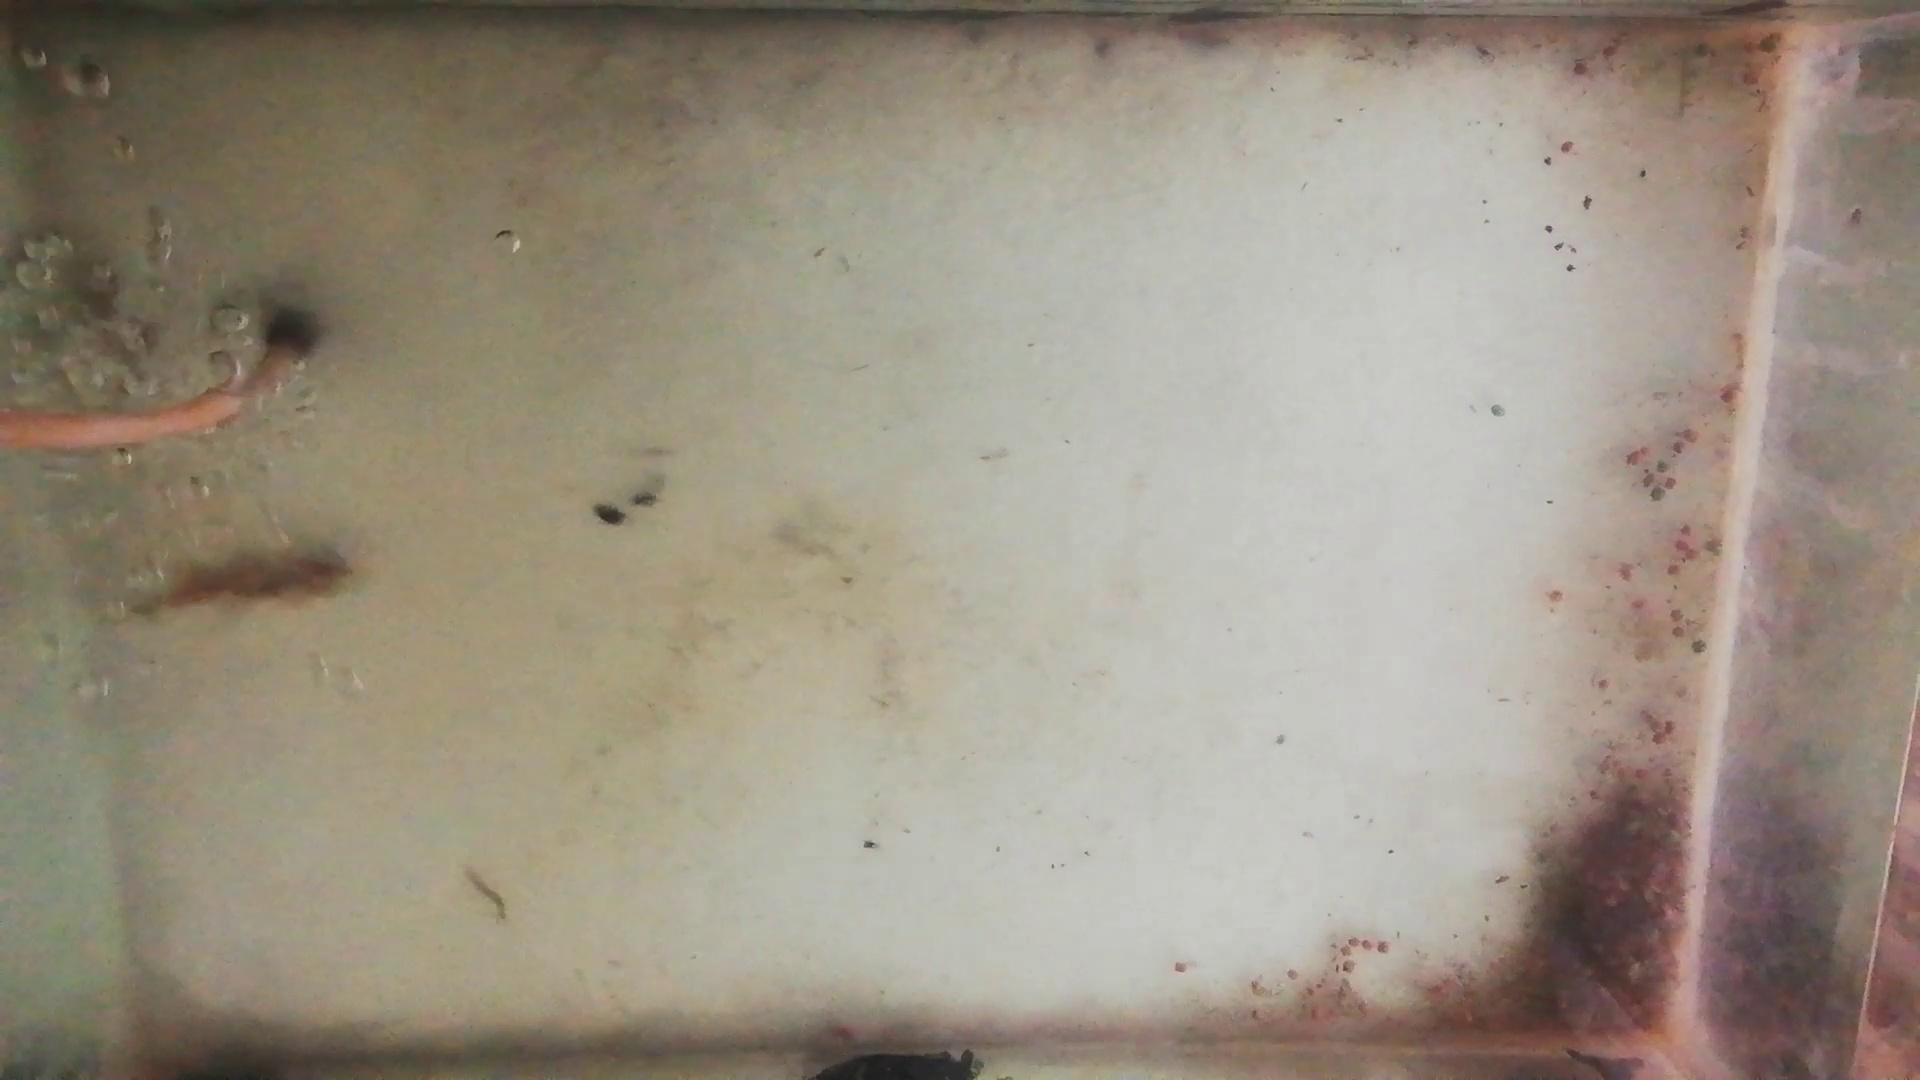fish: (137, 545, 367, 628), (16, 277, 158, 373)
